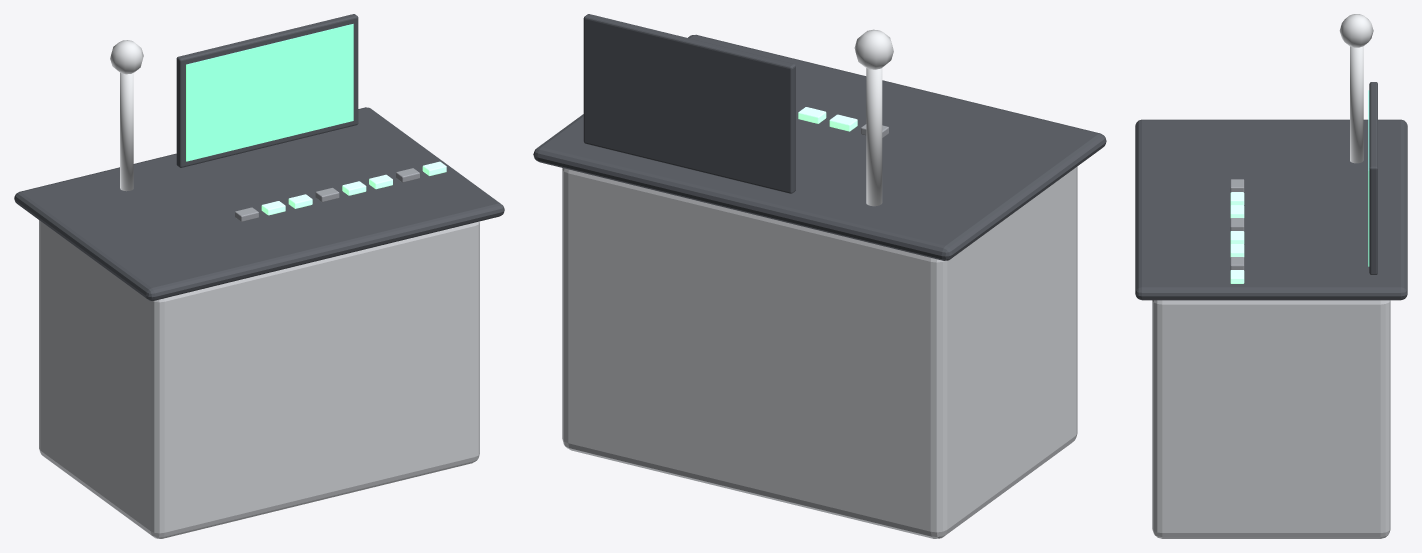
The model's file is command_console_comms.glb.
3 views of the same model, side by side, from view 1: azimuth 30°, elevation 25°; view 2: azimuth 150°, elevation 25°; view 3: azimuth 270°, elevation 25° (orthographic). The views are drawn at different scales.
Visible parts, largest first — view 1: GD_command_console_comms__m0, GD_command_console_comms__m1, GD_command_console_comms__m4, GD_command_console_comms__m5, GD_command_console_comms__m3, GD_command_console_comms__m2; view 2: GD_command_console_comms__m0, GD_command_console_comms__m1, GD_command_console_comms__m5, GD_command_console_comms__m3; view 3: GD_command_console_comms__m0, GD_command_console_comms__m1, GD_command_console_comms__m5, GD_command_console_comms__m3, GD_command_console_comms__m2, GD_command_console_comms__m4.
Boxes of the visible parts, x1,y1,x2,y2 form: GD_command_console_comms__m0: (39,220,479,538); GD_command_console_comms__m1: (14,14,504,300); GD_command_console_comms__m4: (186,24,353,161); GD_command_console_comms__m5: (110,40,143,191); GD_command_console_comms__m3: (261,161,446,215); GD_command_console_comms__m2: (235,168,419,221); GD_command_console_comms__m0: (562,166,1077,538); GD_command_console_comms__m1: (533,14,1106,260); GD_command_console_comms__m5: (854,29,893,206); GD_command_console_comms__m3: (798,107,857,131); GD_command_console_comms__m0: (1152,300,1390,538); GD_command_console_comms__m1: (1135,82,1407,300); GD_command_console_comms__m5: (1339,14,1373,163); GD_command_console_comms__m3: (1230,192,1244,283); GD_command_console_comms__m2: (1230,179,1244,269); GD_command_console_comms__m4: (1368,90,1369,266).
Size of the model in its own units: 1.2 by 1.31 by 0.8.
